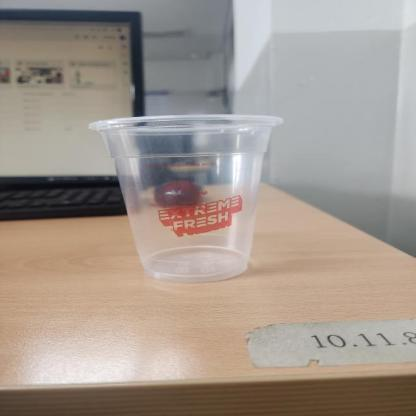Plastic Cup: (88, 115, 284, 284)
